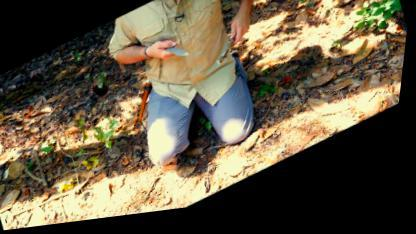knife: (146, 31, 196, 78)
